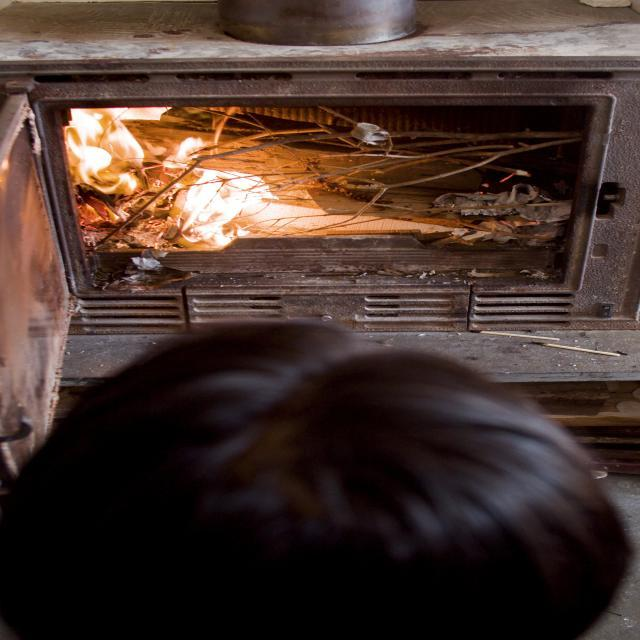Fire: (59, 100, 319, 244)
